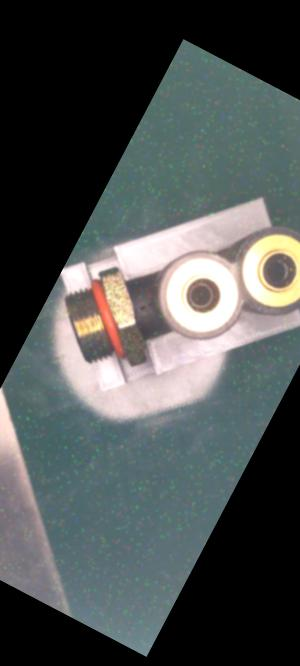craze: (133, 294, 153, 317)
